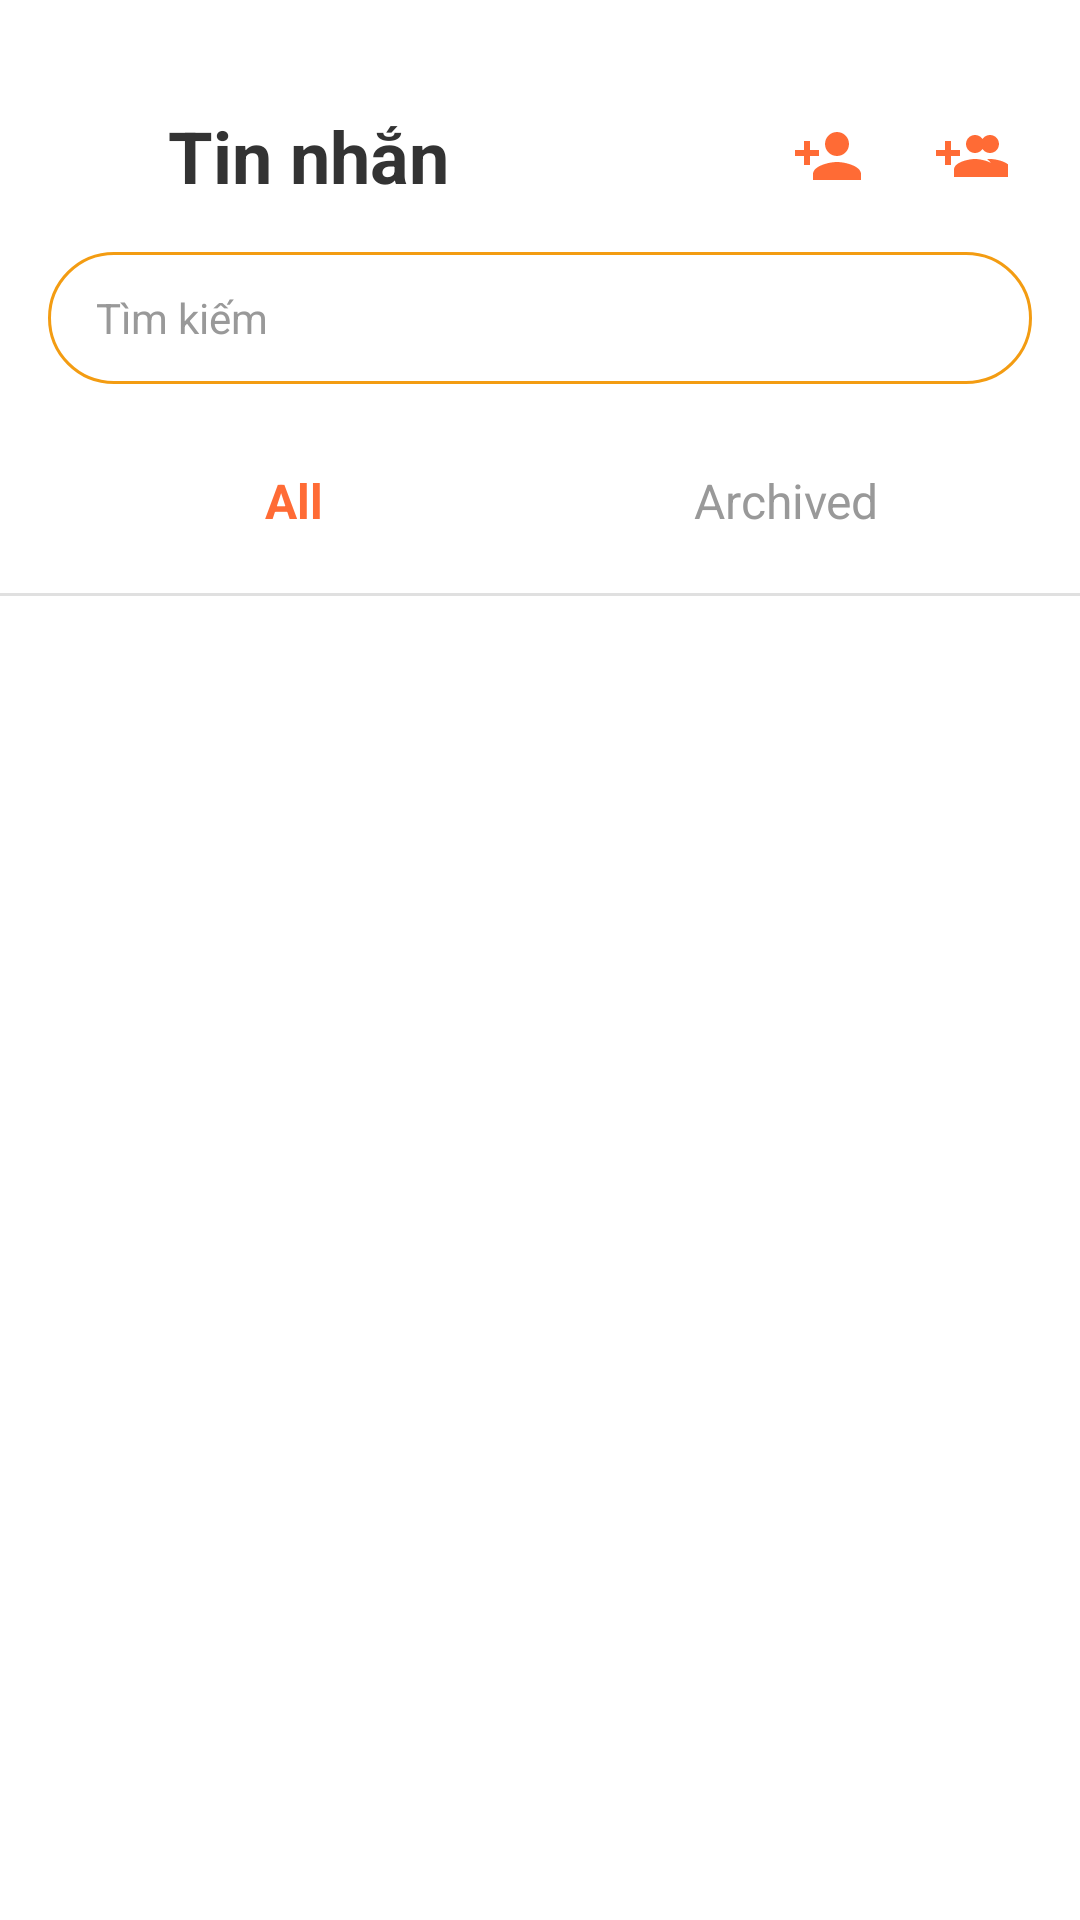

Icons on this 1080*1920 Android screen, each with its box as bbox=(x1, y1, x2, y2):
Add Friend: bbox=(795, 132, 861, 180)
Create Group: bbox=(936, 135, 1008, 177)
